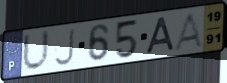5: (113, 17, 143, 61)
6: (87, 23, 111, 64)
A: (171, 11, 206, 51), (144, 15, 176, 56)
J: (53, 27, 76, 68)
U: (21, 28, 52, 73)
